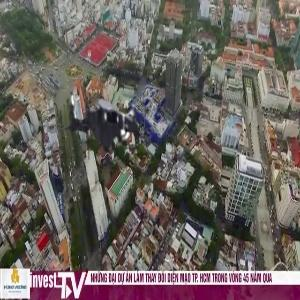drone: (52, 70, 161, 179)
